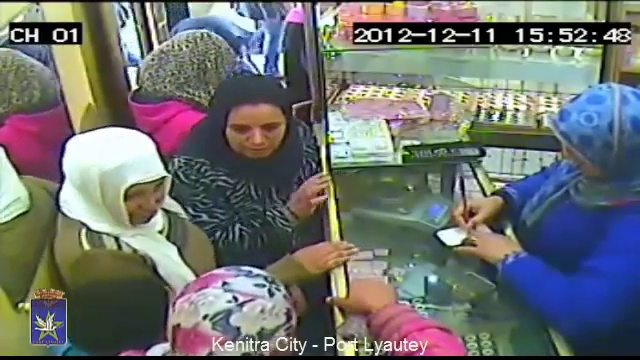face: (228, 111, 283, 155), (118, 178, 161, 224)
